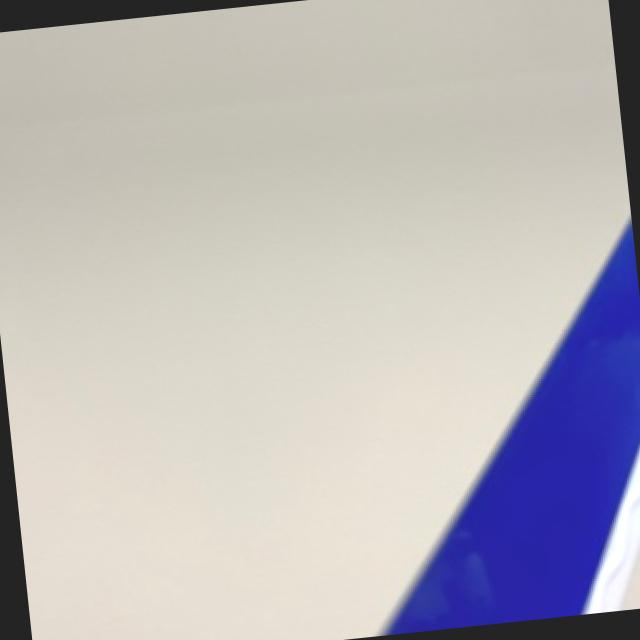healthy: (0, 0, 628, 640)
